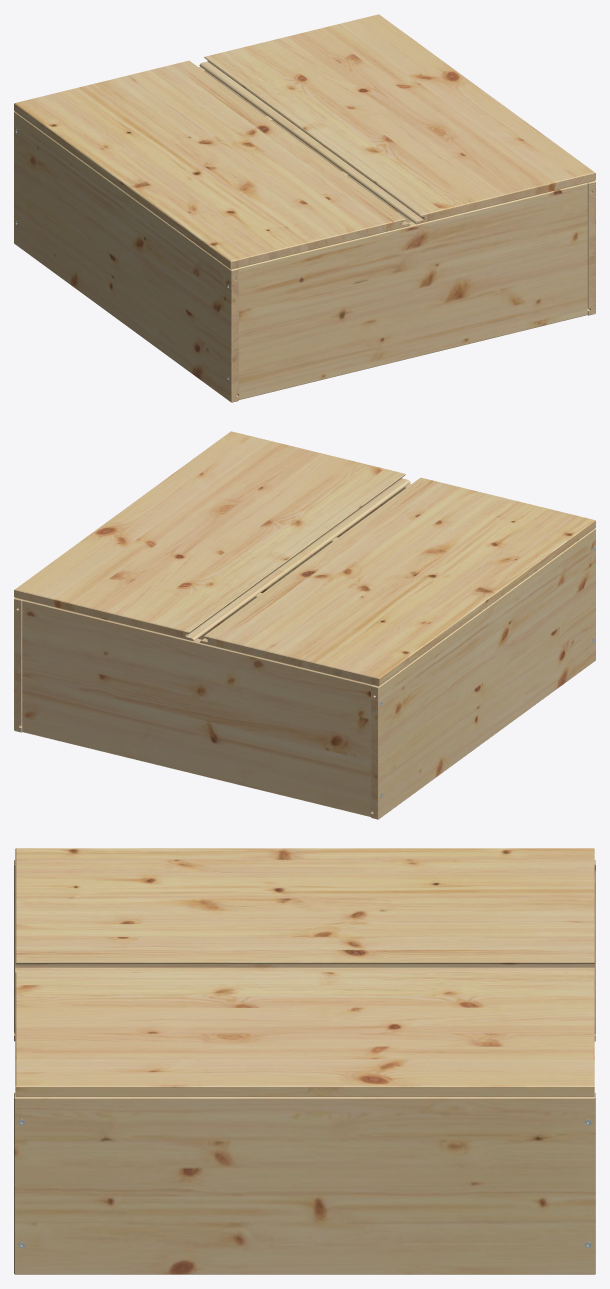
File: ivar_szafka_40033763.glb
The picture shows the model from 3 angles, top to bottom: view 1: azimuth 30°, elevation 25°; view 2: azimuth 150°, elevation 25°; view 3: azimuth 270°, elevation 25°; orthographic projection. The views are drawn at different scales.
Visible parts, largest first — view 1: ivar_szafka_40033763; view 2: ivar_szafka_40033763; view 3: ivar_szafka_40033763.
Boxes of the visible parts, <box> form: ivar_szafka_40033763: <box>14,14,595,402</box>; ivar_szafka_40033763: <box>14,431,595,819</box>; ivar_szafka_40033763: <box>14,848,595,1274</box>.
Bounding box in the file's own units: 0.801 × 0.296 × 0.826.
Materials: 1 (1 with a texture image).
